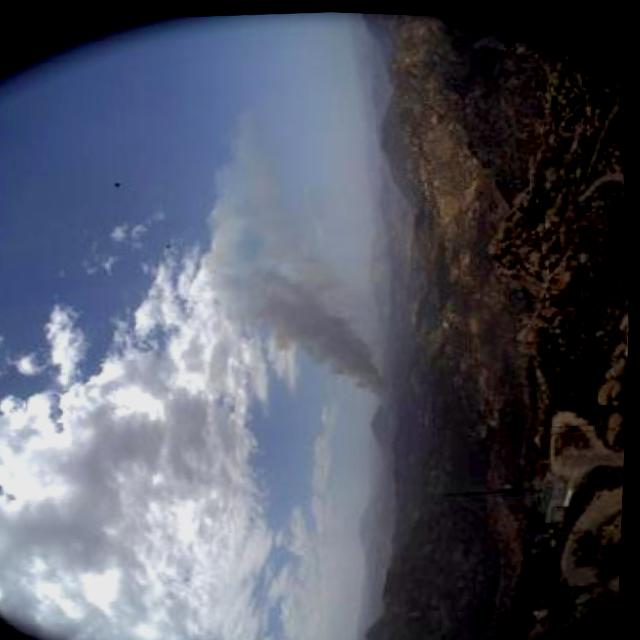no_helmet: (184, 90, 417, 437)
